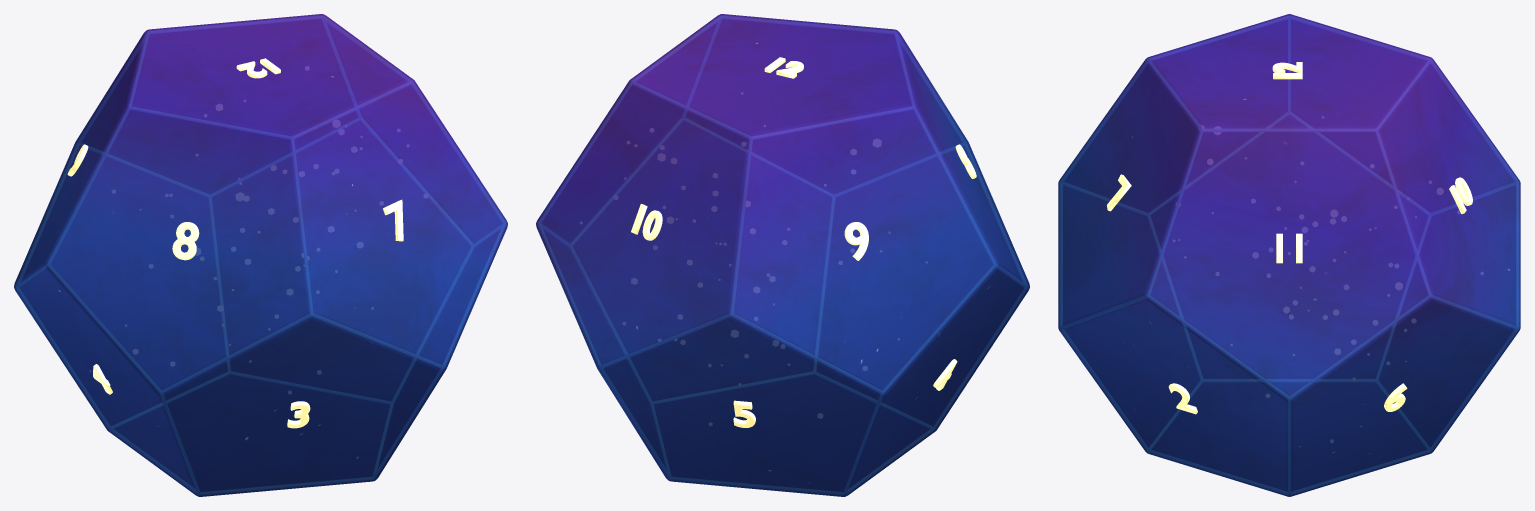
The model's file is D12_十二面骰_星穹_baked.glb.
3 renders of one model, left to right at view 1: azimuth 30°, elevation 25°; view 2: azimuth 150°, elevation 25°; view 3: azimuth 270°, elevation 25°, orthographic. The views are drawn at different scales.
Visible parts, largest first — view 1: D12_Body_12_Faces, D12_Galaxy_Clean_Edge_Divider_v6, D12_Clustered_StarDust_v5, D12_Face_08_8; view 2: D12_Body_12_Faces, D12_Galaxy_Clean_Edge_Divider_v6, D12_Clustered_StarDust_v5, D12_Face_10_10, D12_Face_09_9; view 3: D12_Body_12_Faces, D12_Galaxy_Clean_Edge_Divider_v6, D12_Clustered_StarDust_v5, D12_Face_10_10.
Boxes of the visible parts, left/top/right/bottom form: D12_Body_12_Faces: left=14, top=14, right=507, bottom=496; D12_Galaxy_Clean_Edge_Divider_v6: left=16, top=16, right=505, bottom=494; D12_Clustered_StarDust_v5: left=112, top=66, right=427, bottom=393; D12_Face_08_8: left=172, top=222, right=199, bottom=260; D12_Body_12_Faces: left=536, top=14, right=1029, bottom=496; D12_Galaxy_Clean_Edge_Divider_v6: left=538, top=16, right=1027, bottom=494; D12_Clustered_StarDust_v5: left=580, top=93, right=927, bottom=425; D12_Face_10_10: left=631, top=204, right=662, bottom=240; D12_Face_09_9: left=844, top=222, right=868, bottom=260; D12_Body_12_Faces: left=1058, top=14, right=1520, bottom=496; D12_Galaxy_Clean_Edge_Divider_v6: left=1060, top=16, right=1518, bottom=494; D12_Clustered_StarDust_v5: left=1173, top=117, right=1483, bottom=442; D12_Face_10_10: left=1449, top=177, right=1472, bottom=213.
Size of the model in its own units: 4.19 by 3.54 by 3.99.
4 materials, 1 textured.
